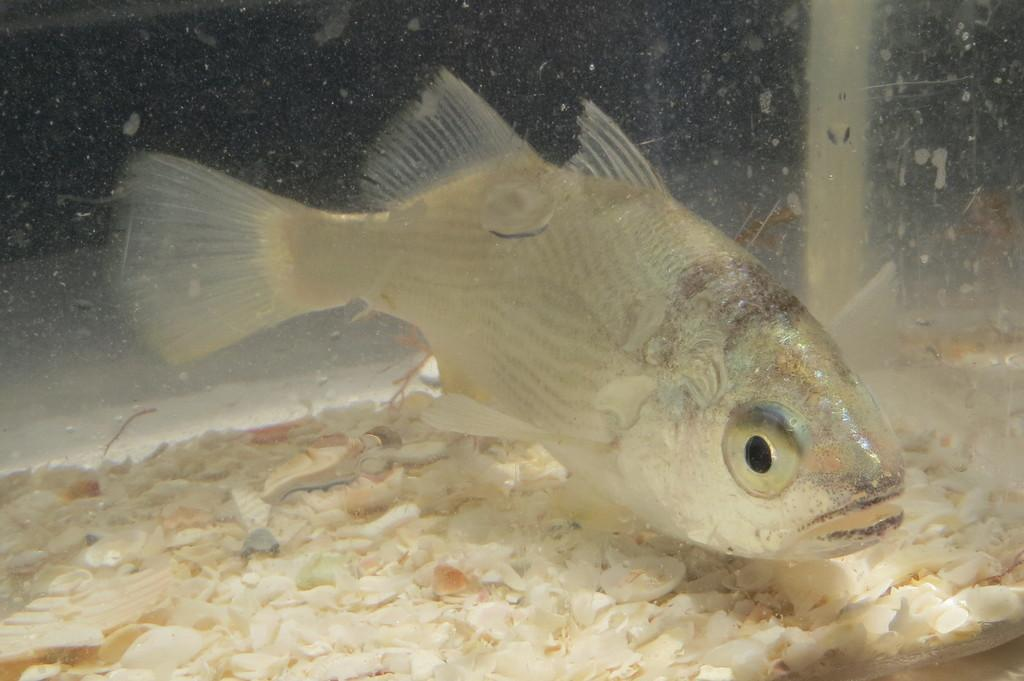Silver Perch: (112, 68, 907, 578)
